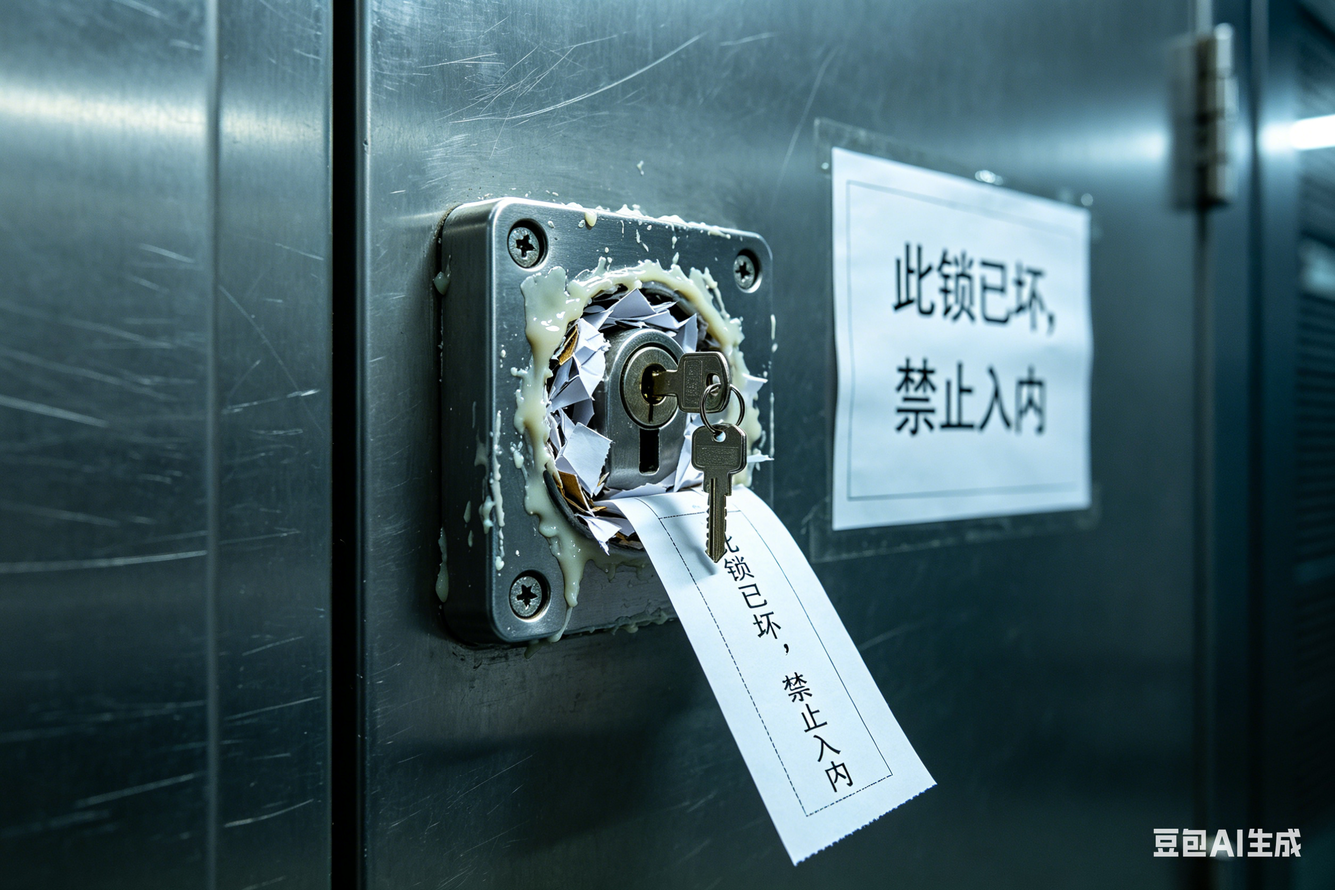BadLock: (522, 277, 771, 568)
